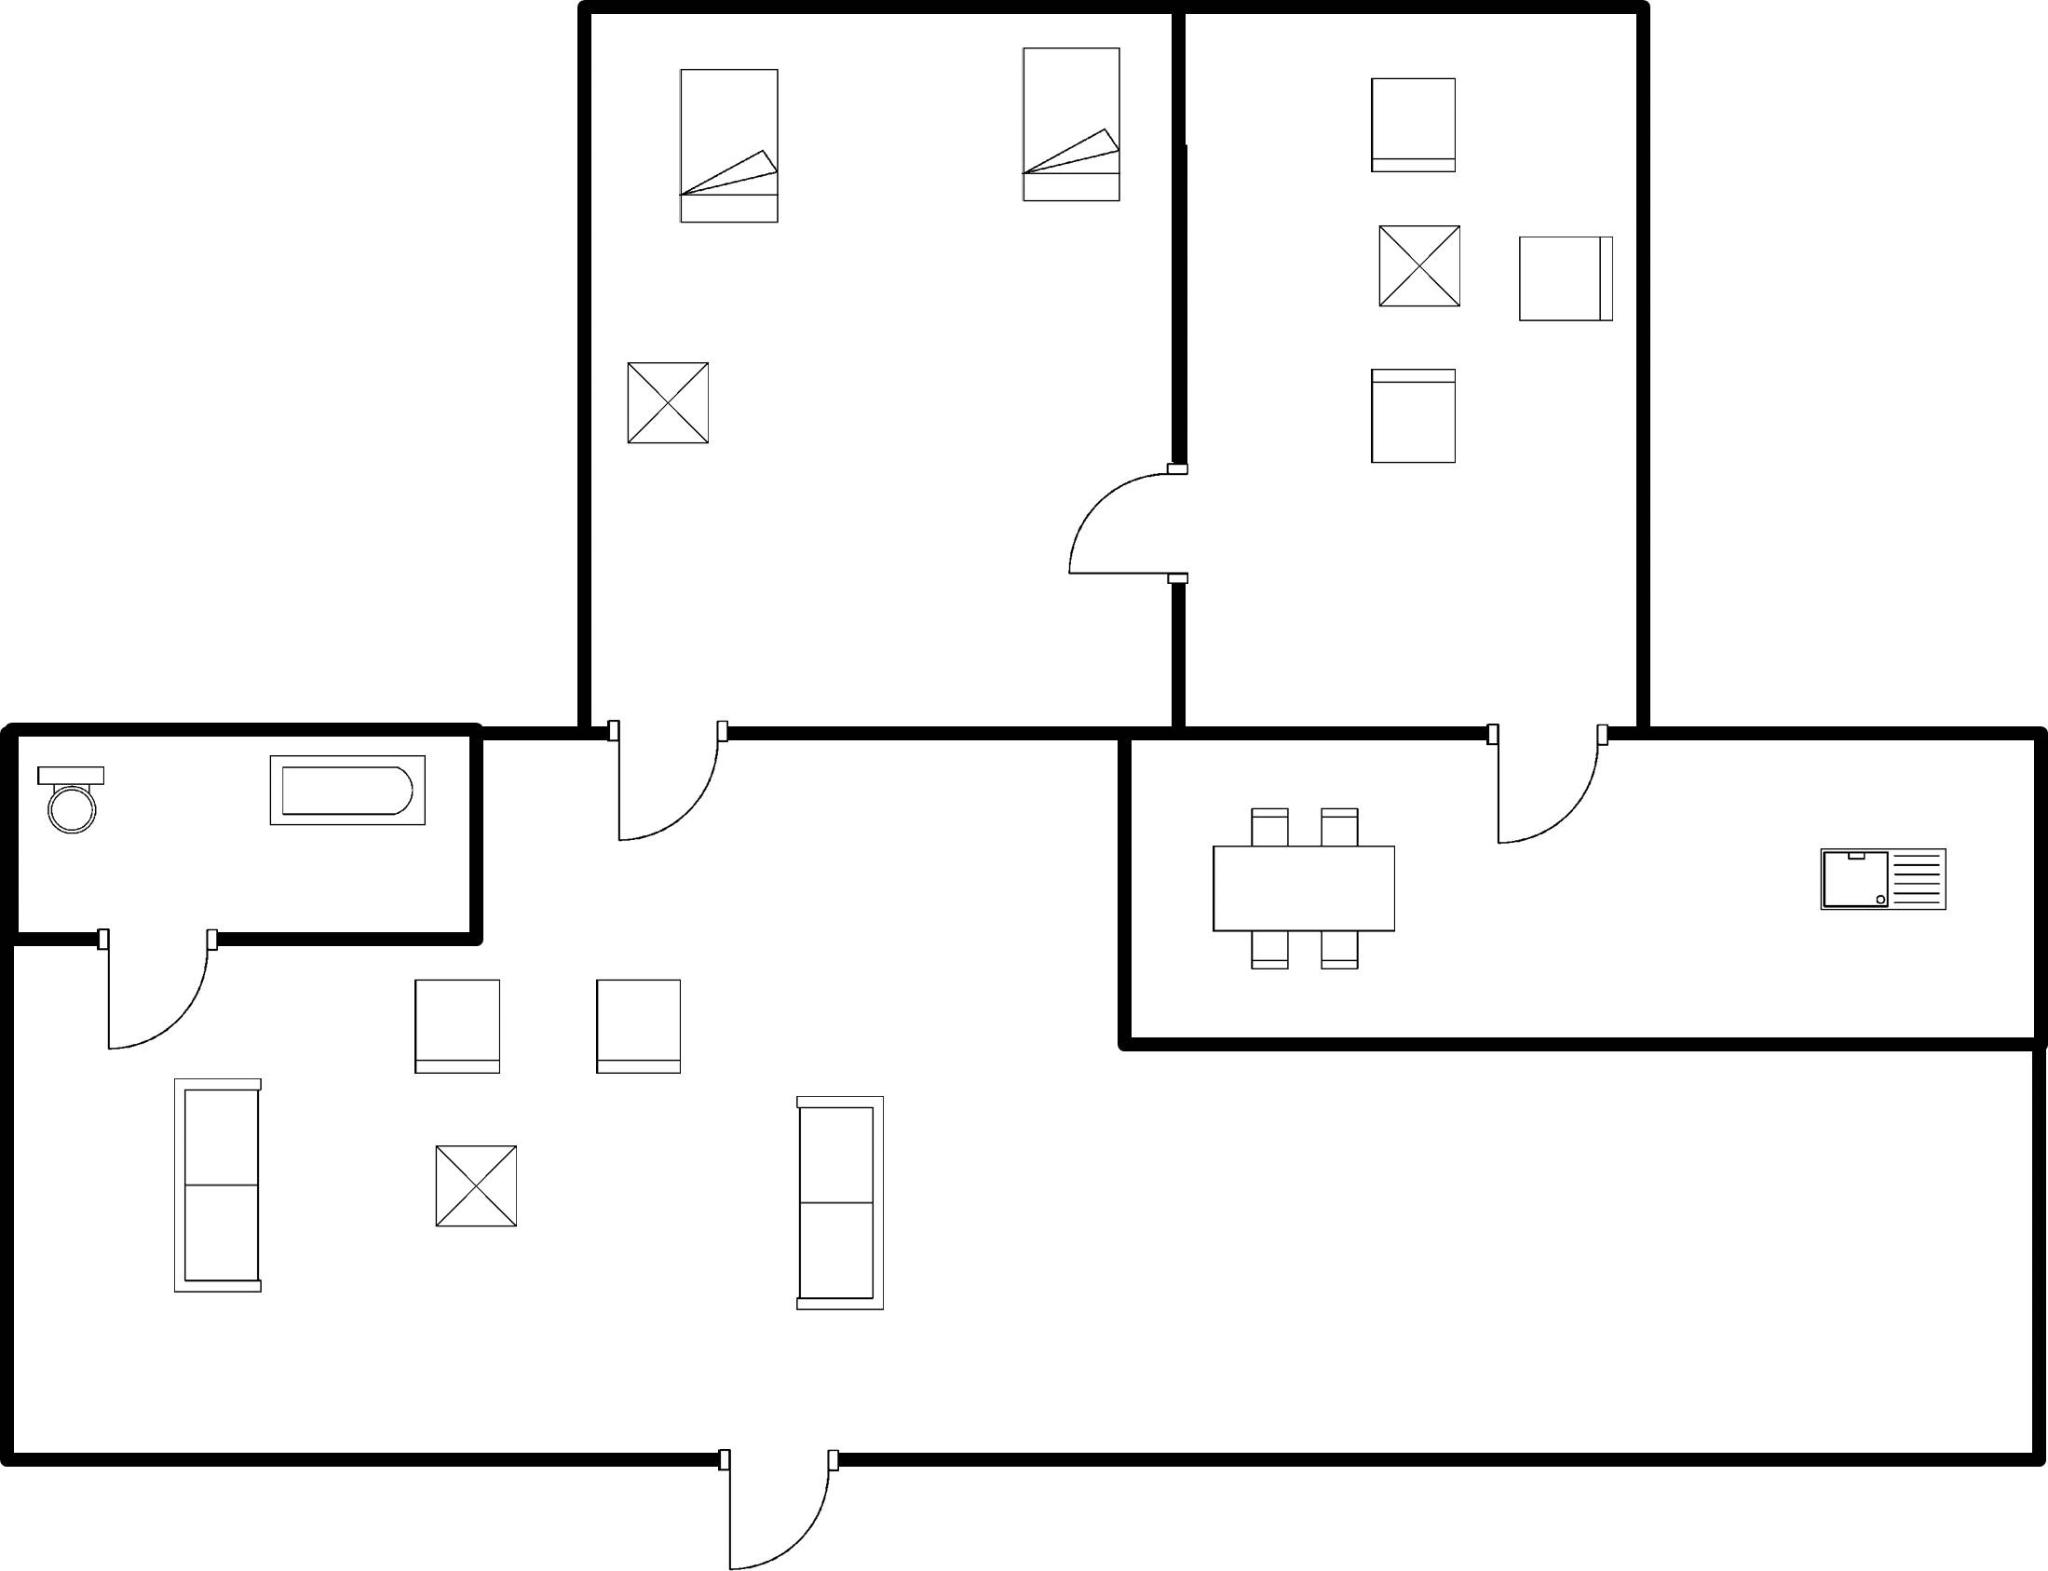bed: (667, 54, 787, 239), (1008, 31, 1125, 213)
dining_table: (1203, 794, 1409, 984)
sink: (1807, 833, 1961, 921)
sofa: (786, 1079, 894, 1323), (163, 1068, 271, 1305)
toilet: (26, 756, 112, 842)
tub: (256, 744, 432, 840)
